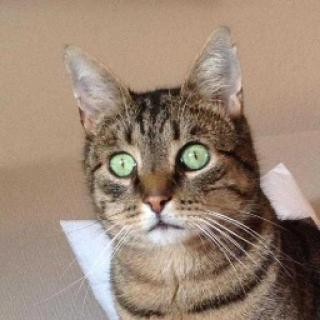cat: (62, 44, 257, 258)
nose: (139, 174, 179, 222)
